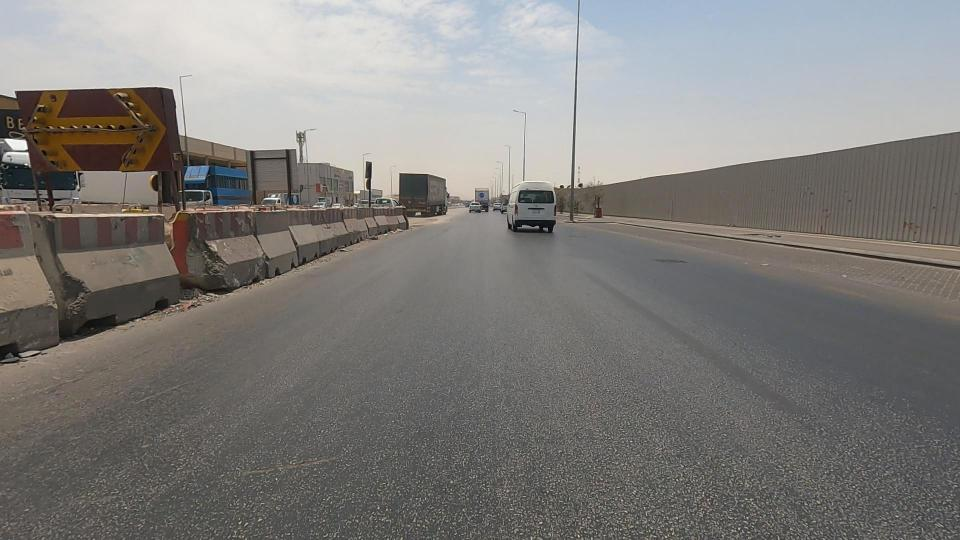CONSTRUCTION_ROAD: (0, 50, 426, 388), (223, 144, 472, 298)
